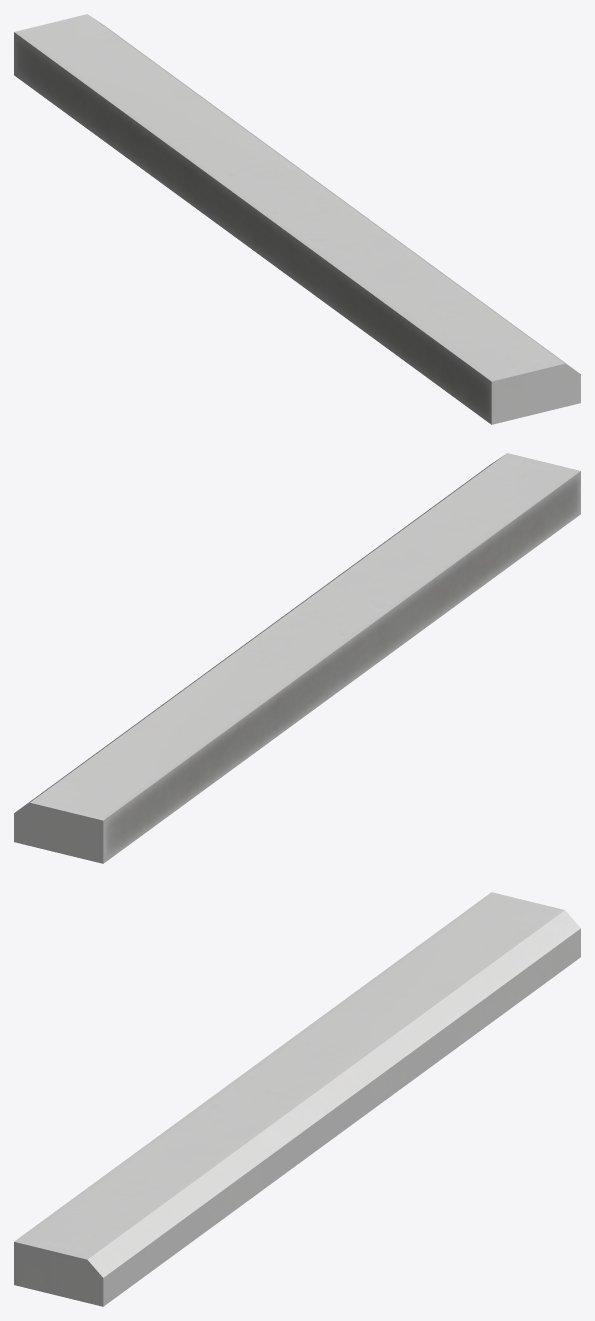
The model's file is Pfb_Stairs_New__2.fbx.
3 views of the same model, one above another, from view 1: azimuth 30°, elevation 25°; view 2: azimuth 150°, elevation 25°; view 3: azimuth 330°, elevation 25° (orthographic).
Parts seen in each view (by area): view 1: Mat_Stairs; view 2: Mat_Stairs; view 3: Mat_Stairs.
Boxes of the visible parts, <box> form: Mat_Stairs: <box>14,14,580,424</box>; Mat_Stairs: <box>14,453,580,863</box>; Mat_Stairs: <box>14,892,580,1306</box>.
Size of the model in its own units: 0.216 by 0.1 by 2.
Materials: 1 (1 with a texture image).
